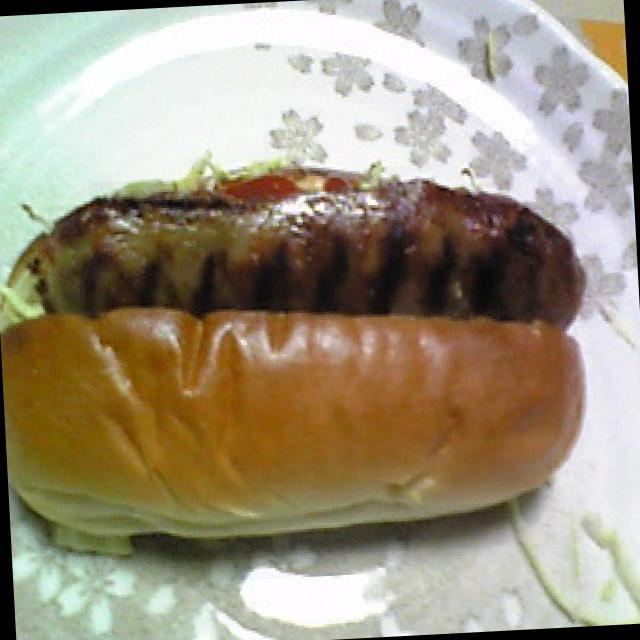Hot Dog: (0, 145, 594, 531)
